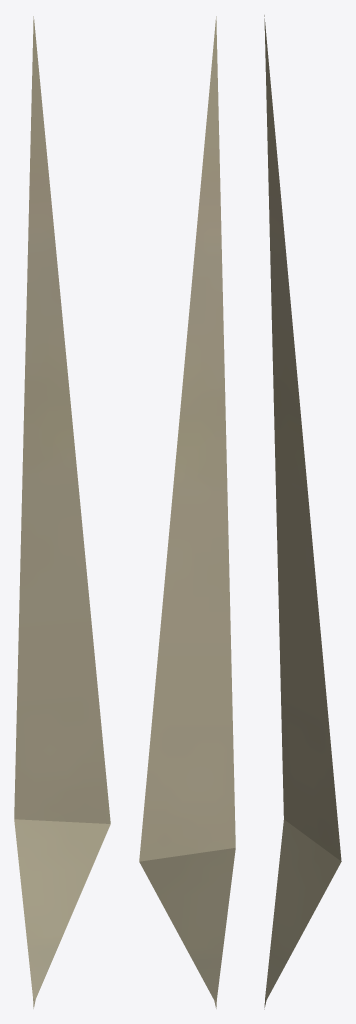
3 renders of one model, left to right at view 1: azimuth 30°, elevation 25°; view 2: azimuth 210°, elevation 25°; view 3: azimuth 330°, elevation 25°, orthographic.
Bounding box in the file's own units: 0.0175 × 0.2159 × 0.00765.
1 material, 1 textured.
